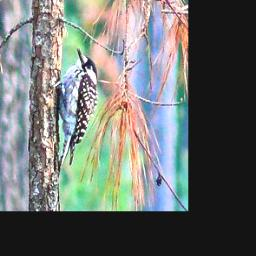Woodpecker: (43, 41, 105, 181)
